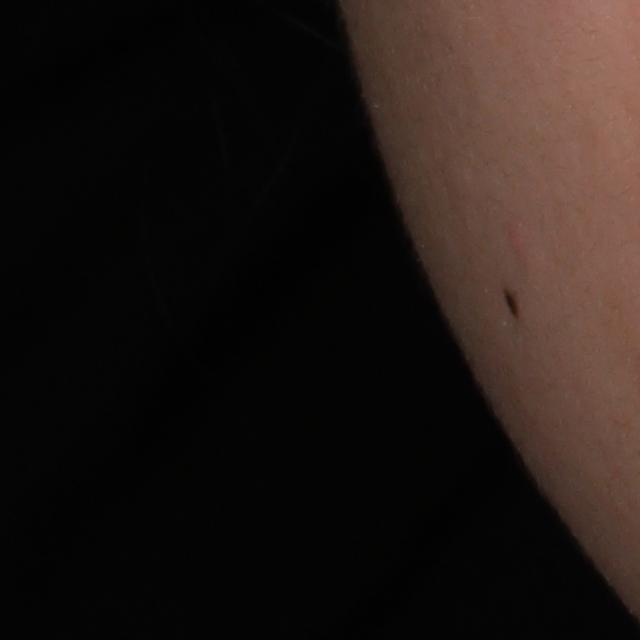nevus: (499, 286, 526, 324)
papule: (506, 224, 533, 259)
